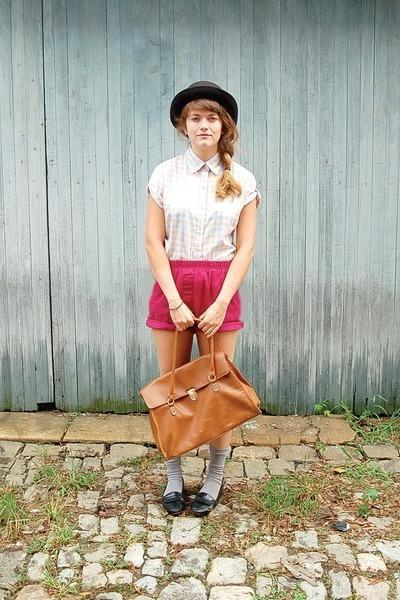bag: (140, 348, 259, 458)
hat: (170, 87, 237, 123)
shirt: (148, 141, 260, 260)
shoe: (152, 481, 216, 519)
shorts: (146, 257, 243, 332)
